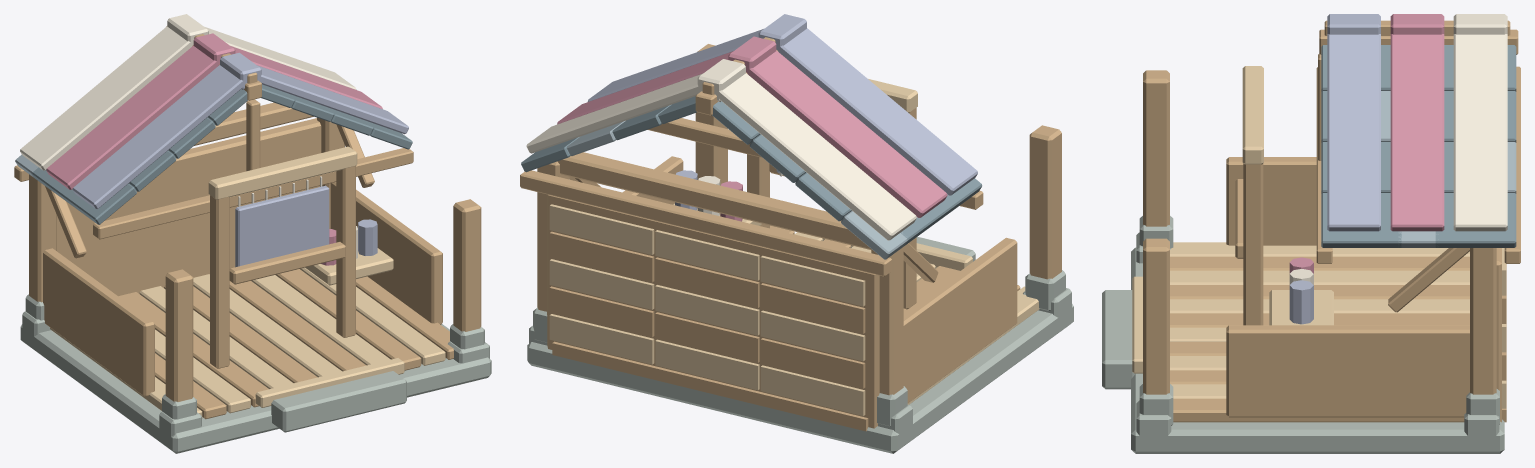
File: clothier.fbx
The picture shows the model from 3 angles, left to right: view 1: azimuth 30°, elevation 25°; view 2: azimuth 150°, elevation 25°; view 3: azimuth 270°, elevation 25°; orthographic projection. The views are drawn at different scales.
Parts seen in each view (by area): view 1: clothier_mesh, Loom; view 2: clothier_mesh; view 3: clothier_mesh, Loom.
Boxes of the visible parts, x1=… form: clothier_mesh: x1=14, y1=14, x2=491, y2=453; Loom: x1=229, y1=242, x2=345, y2=284; clothier_mesh: x1=520, y1=14, x2=1073, y2=453; clothier_mesh: x1=1102, y1=14, x2=1520, y2=453; Loom: x1=1235, y1=179, x2=1243, y2=258.
Size of the model in its own units: 3.28 by 2.82 by 3.12.
